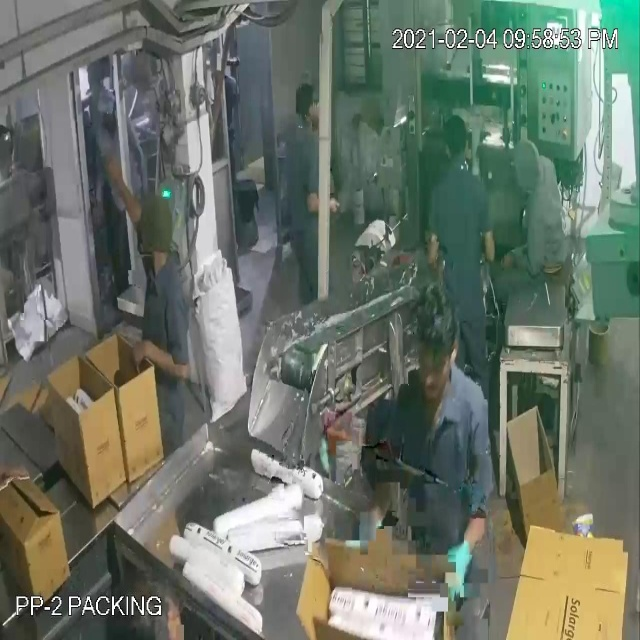Guantes: (442, 507, 492, 614)
Sin_guantes: (97, 154, 161, 259), (126, 324, 199, 404)
